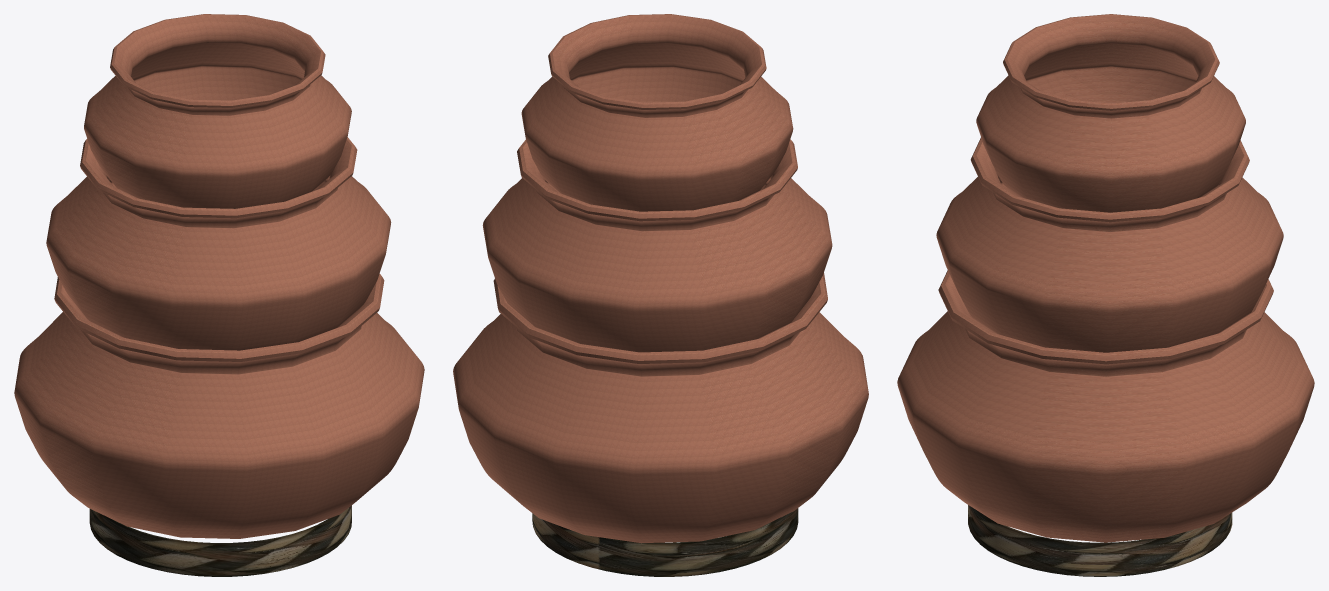
The model's file is _3pots.FBX.
3 renders of one model, left to right at view 1: azimuth 30°, elevation 25°; view 2: azimuth 150°, elevation 25°; view 3: azimuth 270°, elevation 25°, orthographic.
Parts seen in each view (by area): view 1: Line003; view 2: Line003; view 3: Line003.
Boxes of the visible parts, x1,y1,x2,y2 form: Line003: (14, 14, 424, 576); Line003: (453, 14, 868, 576); Line003: (897, 14, 1314, 576).
Bounding box in the file's own units: 44.07 × 53.99 × 44.07.
